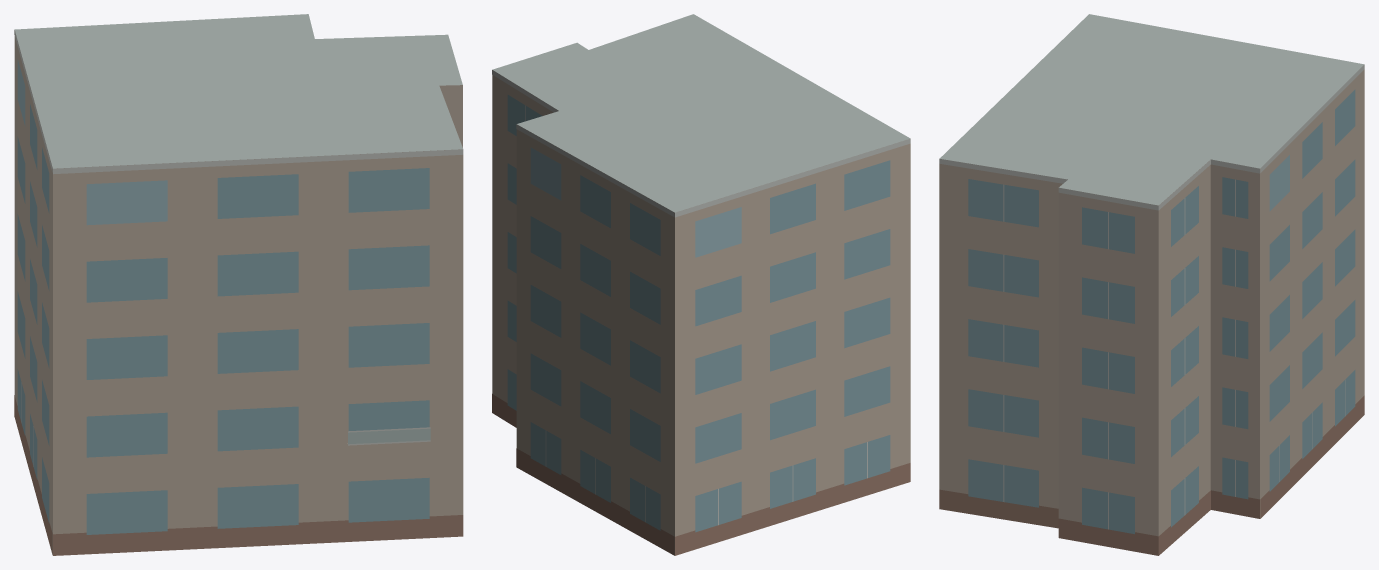
File: survey-upis-33020810.glb
The picture shows the model from 3 angles, left to right: view 1: azimuth 30°, elevation 25°; view 2: azimuth 150°, elevation 25°; view 3: azimuth 270°, elevation 25°; orthographic projection. The views are drawn at different scales.
Parts seen in each view (by area): view 1: survey-upis-33020810.tmp; view 2: survey-upis-33020810.tmp; view 3: survey-upis-33020810.tmp.
Boxes of the visible parts, x1,y1,x2,y2 form: survey-upis-33020810.tmp: [14, 14, 463, 555]; survey-upis-33020810.tmp: [492, 14, 910, 555]; survey-upis-33020810.tmp: [939, 14, 1364, 555].
Size of the model in its own units: 19.94 by 17 by 18.7.
